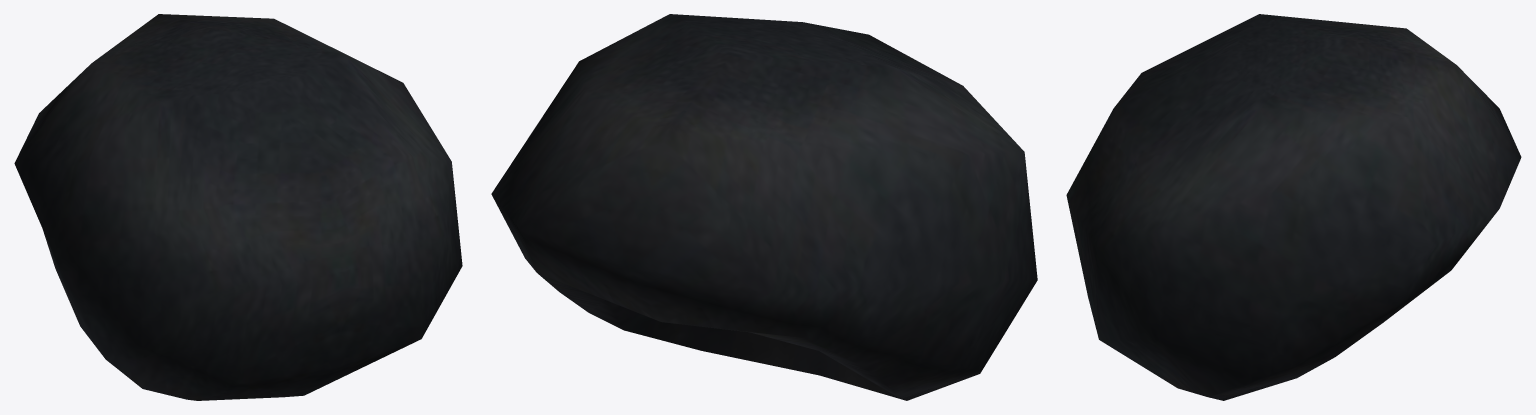
The model's file is afro.glb.
3 views of the same model, side by side, from view 1: azimuth 30°, elevation 25°; view 2: azimuth 150°, elevation 25°; view 3: azimuth 270°, elevation 25° (orthographic). The views are drawn at different scales.
Visible parts, largest first — view 1: afro; view 2: afro; view 3: afro.
Part boxes in pixels (bbox=[...]): afro: bbox=[14, 14, 462, 400]; afro: bbox=[491, 14, 1037, 400]; afro: bbox=[1066, 14, 1521, 400].
Bounding box in the file's own units: 0.4199 × 0.338 × 0.426.
1 material, 1 textured.
